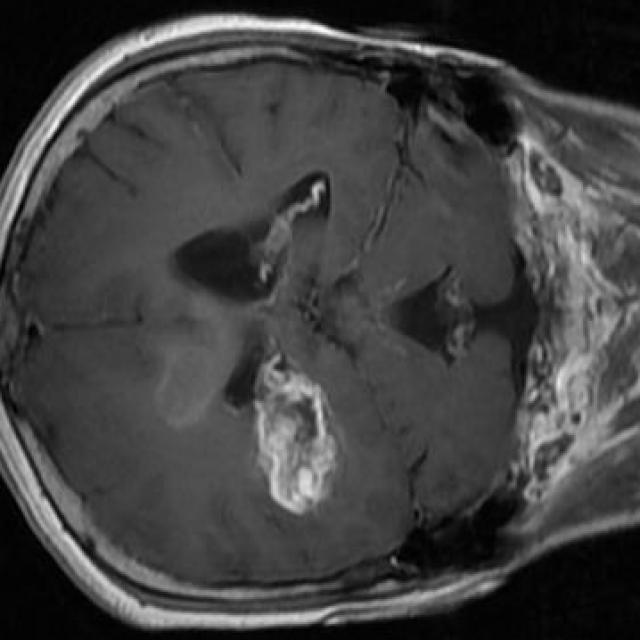glioma: (155, 292, 342, 515)
